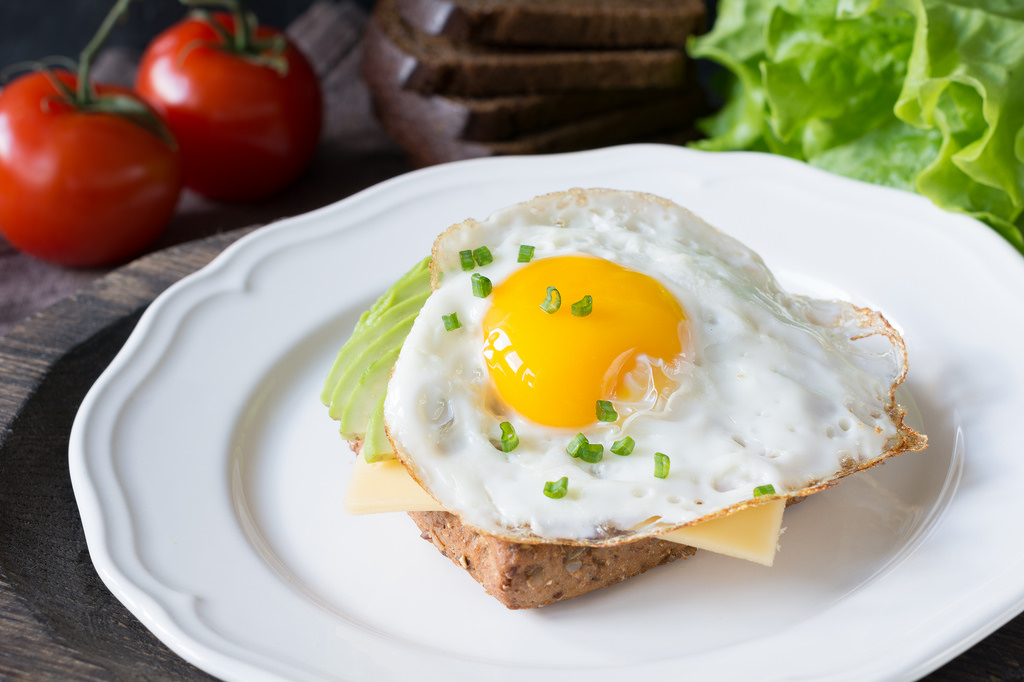fried egg: (427, 212, 811, 500)
